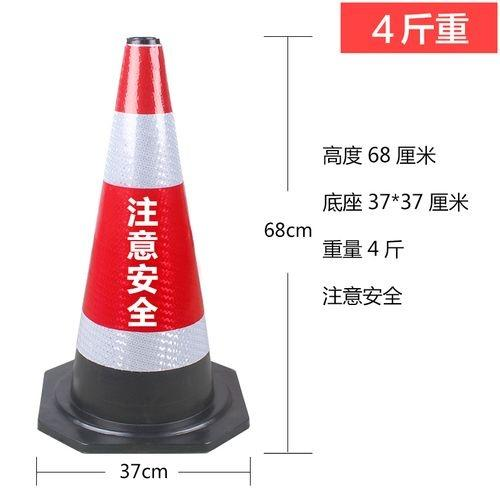cone_barrel: (54, 41, 234, 444)
